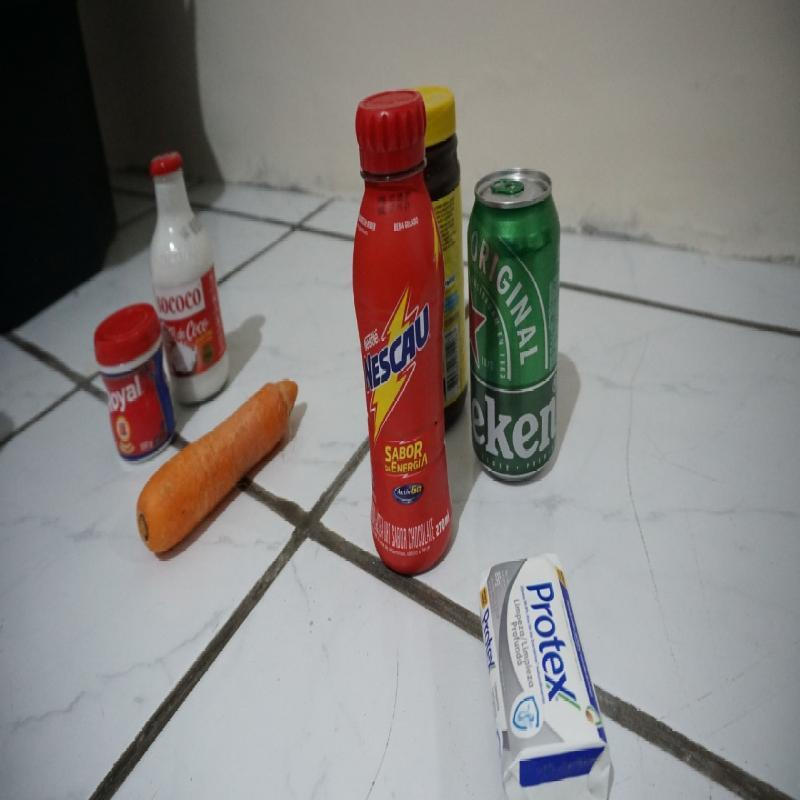Beer can: (475, 173, 558, 480)
Carrot: (154, 396, 304, 556)
Chocolate Milk: (346, 77, 429, 570)
Chocolate Powder: (427, 87, 470, 417)
Coconut Milk: (153, 152, 227, 378)
Soap: (476, 553, 620, 800)
Yeast: (83, 306, 158, 464)
